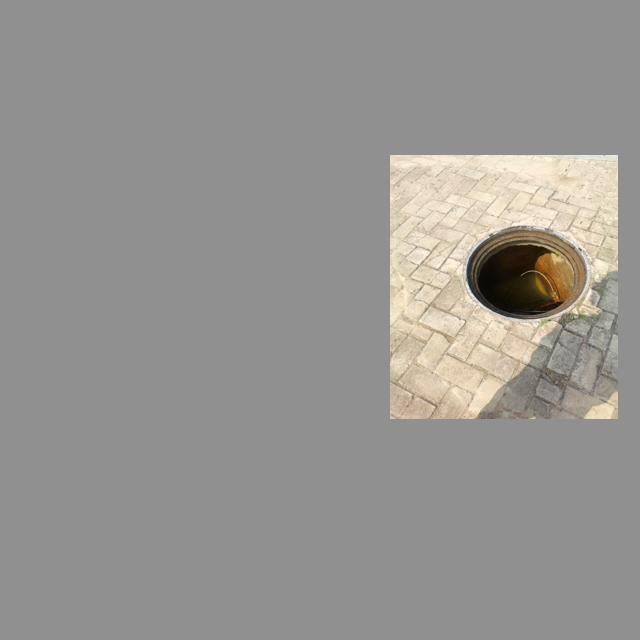lose: (461, 226, 596, 321)
